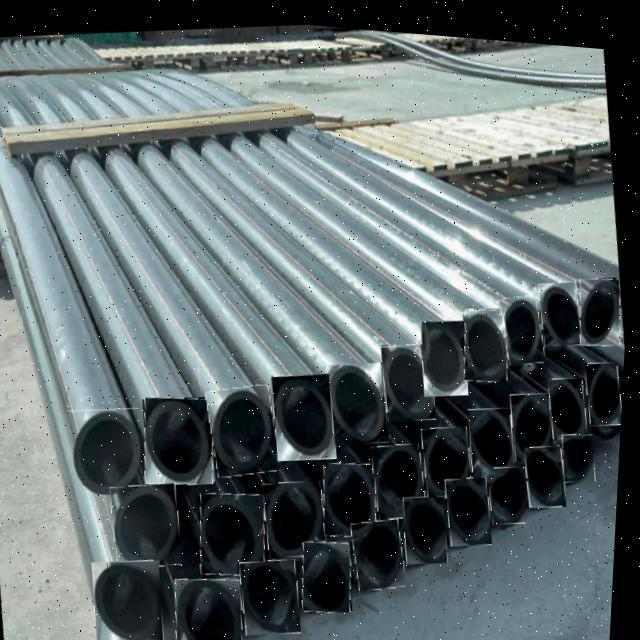pipe: (209, 380, 285, 473), (71, 405, 150, 494), (114, 479, 187, 565), (98, 558, 170, 640), (149, 394, 217, 480), (275, 367, 341, 455), (206, 490, 270, 571), (267, 474, 333, 552), (332, 355, 393, 438), (245, 553, 307, 630), (384, 335, 440, 414), (181, 575, 248, 640), (376, 436, 432, 512), (355, 512, 411, 583), (329, 457, 381, 530), (425, 418, 477, 489), (424, 312, 471, 388), (308, 535, 356, 606), (472, 398, 520, 469), (449, 468, 497, 538), (503, 285, 548, 356), (513, 382, 558, 452), (408, 488, 453, 556), (469, 300, 511, 372), (540, 271, 584, 337), (529, 435, 571, 498), (582, 268, 622, 334), (551, 367, 592, 429), (493, 457, 535, 515), (588, 351, 625, 415), (565, 424, 599, 472)
